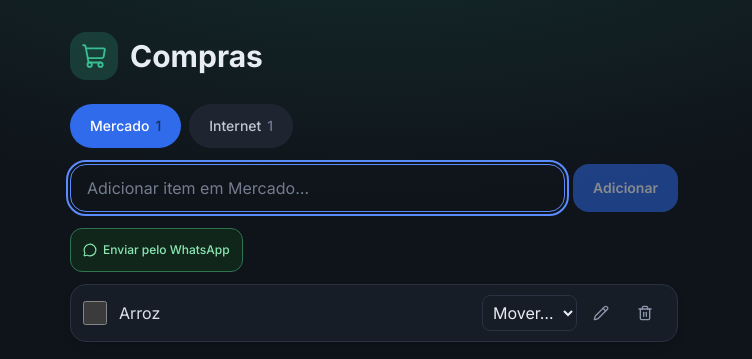
Test case: ComprasPage › alterna entre Mercado e Internet
The image size is (752, 359).
Check: the text "Arroz" is shown, box [119,303,160,323]
Check: the text "Hospedagem" is not shown
Click the tab "Internet1". click: coordinates (241, 126)
box: [189,104,293,148]
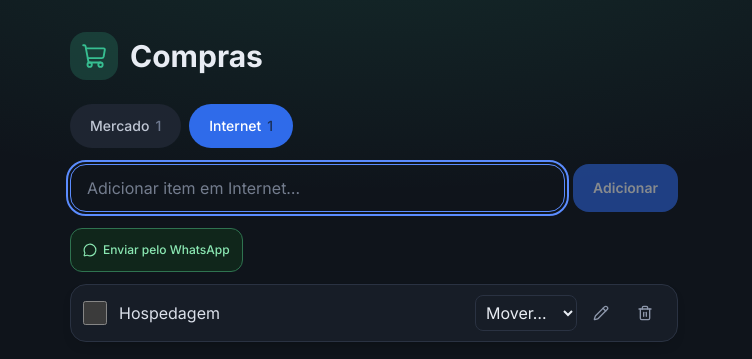
Check: the text "Hospedagem" is shown, box [119,303,220,323]
Check: the text "Arroz" is gone
